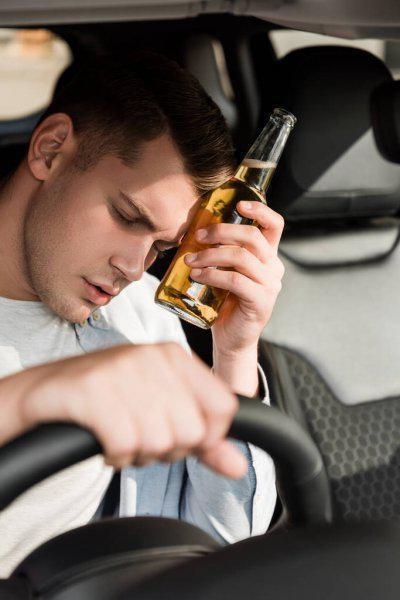Drunk: (50, 124, 186, 324)
